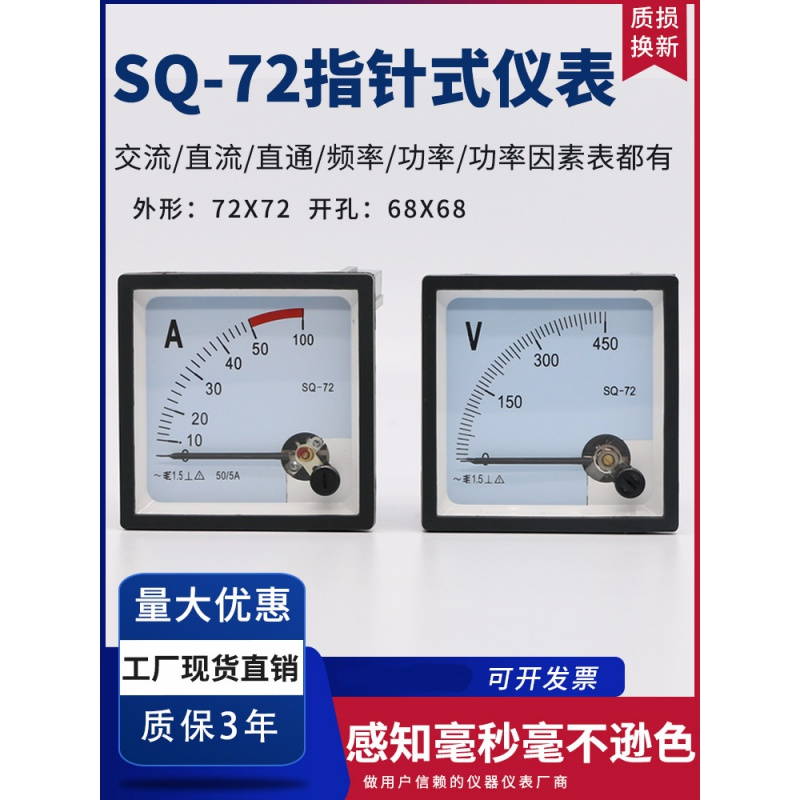pointer: (433, 289, 664, 522), (132, 286, 361, 520)
